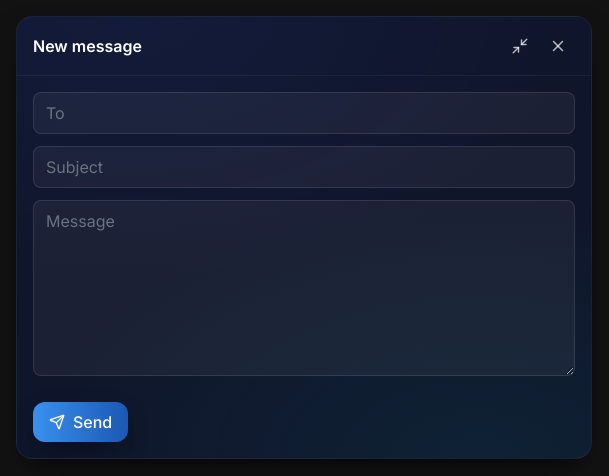
Scenario: Composer › minimizes and maximizes
Click the button titled "Minimize" at {"x": 520, "y": 46}, box left=503, top=29, right=537, bottom=63
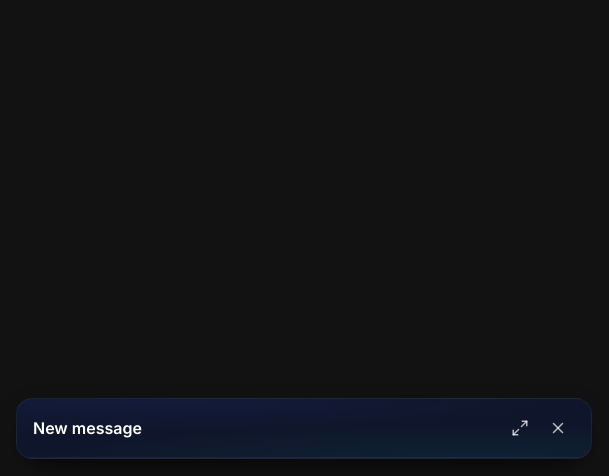
expect the button titled "Maximize" is shown: met, box left=503, top=411, right=537, bottom=445
